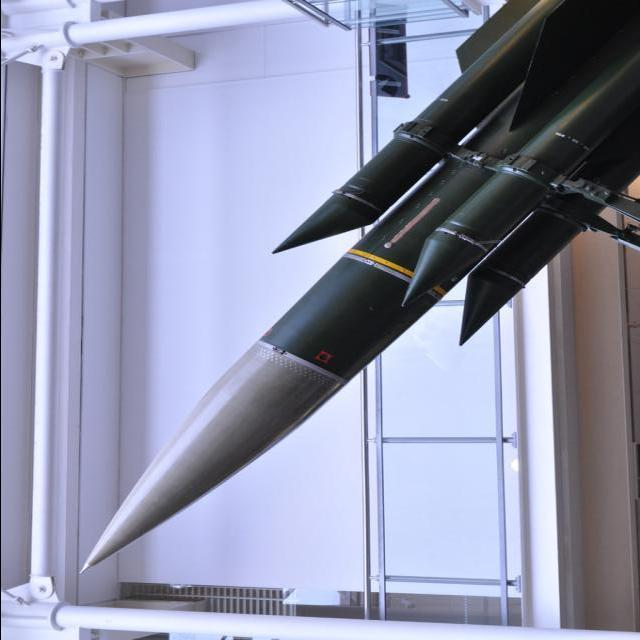missile: (65, 256, 365, 582)
